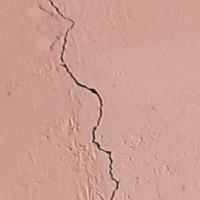crack: (44, 0, 126, 199)
